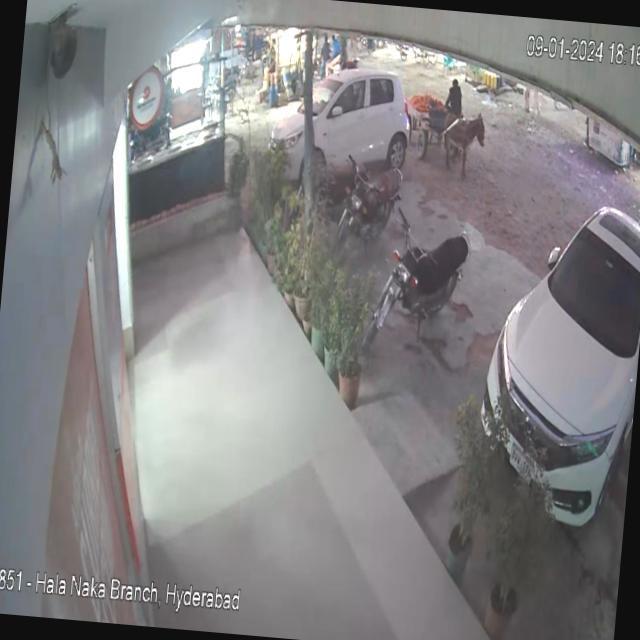Car: (468, 151, 640, 542), (246, 46, 419, 179)
Motorcycle: (360, 194, 483, 364), (337, 152, 410, 248)
